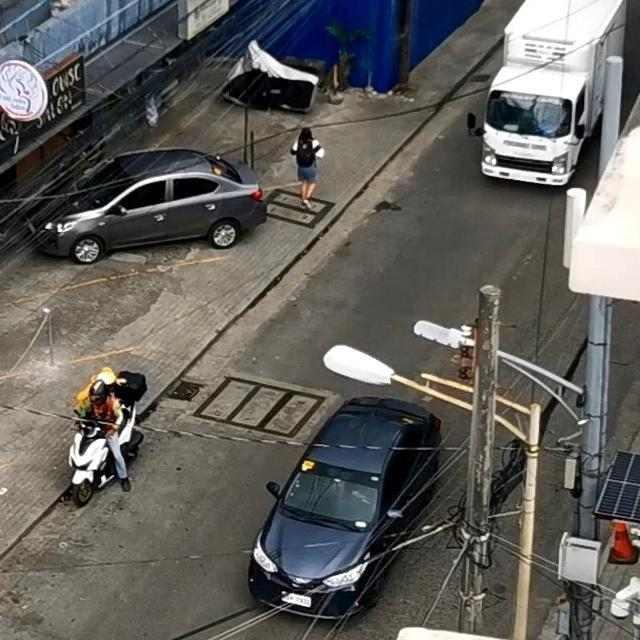Motorcycle: (64, 363, 142, 497)
